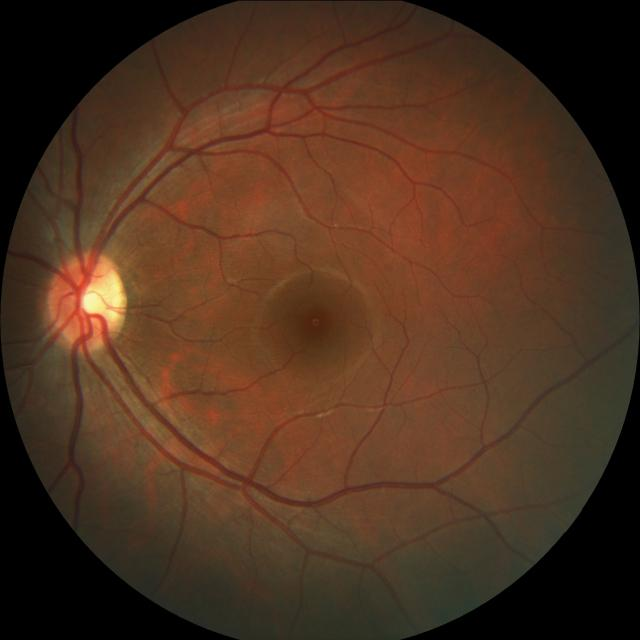OC: (61, 272, 112, 332)
OD: (47, 250, 127, 350)
